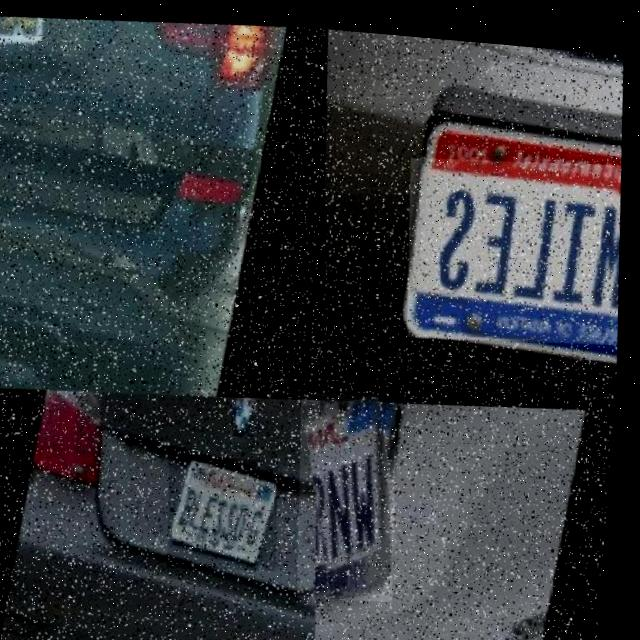LicensePlate: (402, 139, 632, 344), (308, 388, 401, 593), (170, 447, 291, 572), (0, 13, 66, 86)
